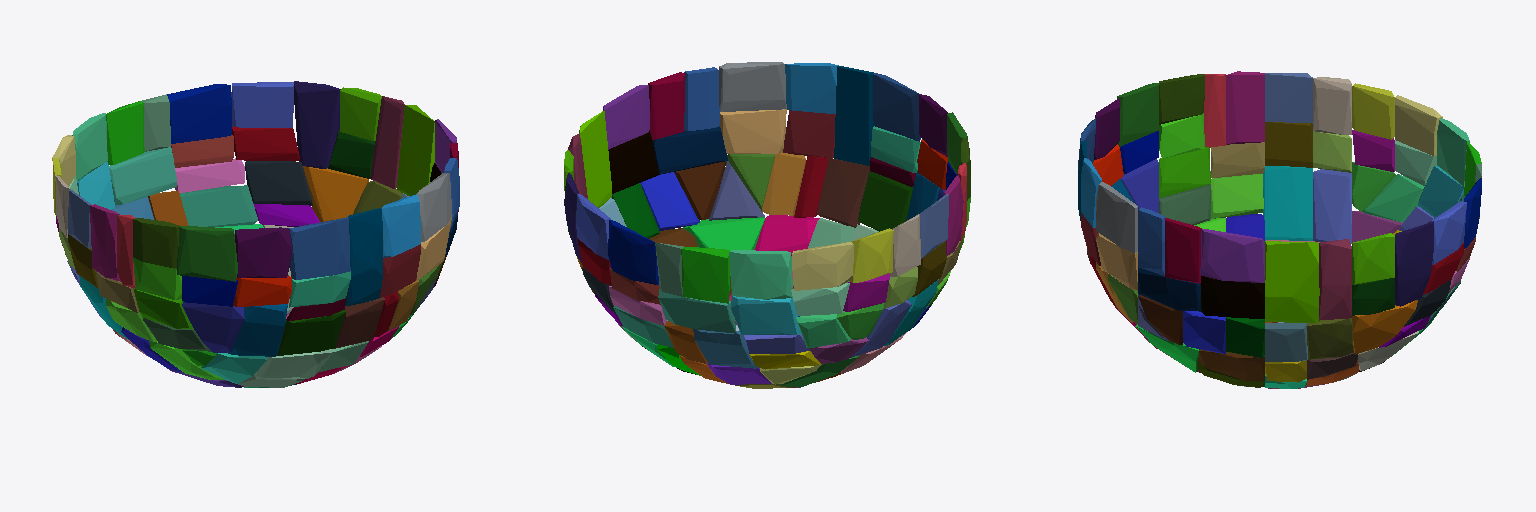
The picture shows the model from 3 angles: view 1: azimuth 30°, elevation 25°; view 2: azimuth 150°, elevation 25°; view 3: azimuth 270°, elevation 25°; orthographic projection.
Parts seen in each view (by area): view 1: Shape_IndexedFaceSet.050, Shape_IndexedFaceSet.047, Shape_IndexedFaceSet.070, Shape_IndexedFaceSet.088, Shape_IndexedFaceSet.106, Shape_IndexedFaceSet.049, Shape_IndexedFaceSet.033, Shape_IndexedFaceSet.054, Shape_IndexedFaceSet.108, Shape_IndexedFaceSet.042, Shape_IndexedFaceSet.045, Shape_IndexedFaceSet.011 (+28 smaller); view 2: Shape_IndexedFaceSet.088, Shape_IndexedFaceSet.090, Shape_IndexedFaceSet.032, Shape_IndexedFaceSet.089, Shape_IndexedFaceSet.084, Shape_IndexedFaceSet.083, Shape_IndexedFaceSet.094, Shape_IndexedFaceSet.101, Shape_IndexedFaceSet.112, Shape_IndexedFaceSet.070, Shape_IndexedFaceSet.047, Shape_IndexedFaceSet.067 (+28 smaller); view 3: Shape_IndexedFaceSet.054, Shape_IndexedFaceSet.026, Shape_IndexedFaceSet.082, Shape_IndexedFaceSet.061, Shape_IndexedFaceSet.025, Shape_IndexedFaceSet.050, Shape_IndexedFaceSet.053, Shape_IndexedFaceSet.100, Shape_IndexedFaceSet.081, Shape_IndexedFaceSet.090, Shape_IndexedFaceSet.098, Shape_IndexedFaceSet.099 (+28 smaller).
Boxes of the visible parts, box(x1,y1,x2,y2) form: Shape_IndexedFaceSet.050: box(294, 81, 340, 168); Shape_IndexedFaceSet.047: box(167, 84, 231, 143); Shape_IndexedFaceSet.070: box(289, 217, 350, 279); Shape_IndexedFaceSet.088: box(345, 208, 382, 305); Shape_IndexedFaceSet.106: box(177, 226, 237, 281); Shape_IndexedFaceSet.049: box(231, 82, 293, 127); Shape_IndexedFaceSet.033: box(109, 147, 176, 204); Shape_IndexedFaceSet.054: box(397, 105, 434, 195); Shape_IndexedFaceSet.108: box(235, 227, 291, 277); Shape_IndexedFaceSet.042: box(180, 185, 257, 226); Shape_IndexedFaceSet.045: box(245, 161, 312, 205); Shape_IndexedFaceSet.011: box(303, 166, 368, 221); Shape_IndexedFaceSet.088: box(834, 66, 873, 165); Shape_IndexedFaceSet.090: box(719, 62, 786, 111); Shape_IndexedFaceSet.032: box(729, 250, 792, 299); Shape_IndexedFaceSet.089: box(720, 109, 786, 153); Shape_IndexedFaceSet.084: box(817, 158, 869, 227); Shape_IndexedFaceSet.083: box(652, 126, 727, 174); Shape_IndexedFaceSet.094: box(792, 242, 853, 290); Shape_IndexedFaceSet.101: box(681, 247, 729, 303); Shape_IndexedFaceSet.112: box(785, 63, 838, 113); Shape_IndexedFaceSet.070: box(873, 73, 920, 141); Shape_IndexedFaceSet.047: box(608, 220, 658, 284); Shape_IndexedFaceSet.067: box(858, 171, 912, 231); Shape_IndexedFaceSet.054: box(1265, 241, 1319, 322); Shape_IndexedFaceSet.026: box(1263, 166, 1312, 240); Shape_IndexedFaceSet.082: box(1200, 229, 1264, 282); Shape_IndexedFaceSet.061: box(1226, 71, 1264, 144); Shape_IndexedFaceSet.025: box(1313, 169, 1351, 243); Shape_IndexedFaceSet.050: box(1395, 221, 1433, 306); Shape_IndexedFaceSet.053: box(1319, 239, 1351, 320); Shape_IndexedFaceSet.100: box(1265, 73, 1312, 123); Shape_IndexedFaceSet.081: box(1200, 276, 1264, 318); Shape_IndexedFaceSet.090: box(1096, 182, 1137, 252); Shape_IndexedFaceSet.098: box(1313, 77, 1351, 134); Shape_IndexedFaceSet.099: box(1265, 122, 1312, 167).
Bounding box in the file's own units: 0.6511 × 0.4014 × 0.656.